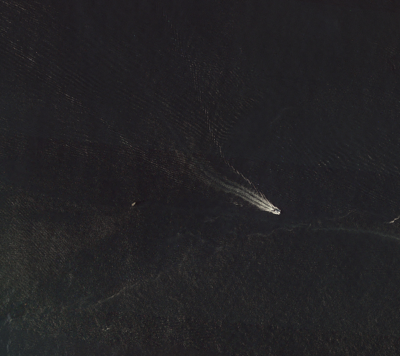boat: (274, 209, 282, 215), (132, 202, 137, 207)
